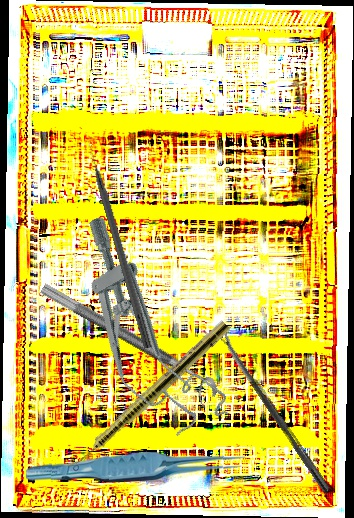Fixation Ring: (31, 282, 222, 410)
Handpiece: (64, 317, 232, 476)
Hook Surgical: (85, 139, 154, 349)
Speculum: (45, 206, 234, 452)
Surgical Spoon: (216, 328, 333, 495)
Tissue Forceps: (25, 450, 250, 486)
